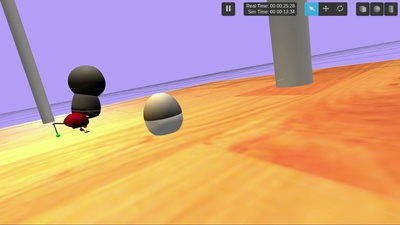mira_robot: (144, 93, 183, 136)
